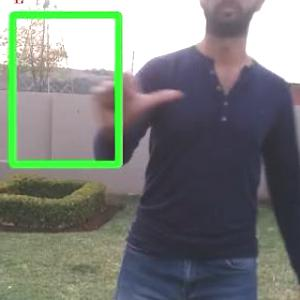land_hand: (90, 29, 183, 131)
